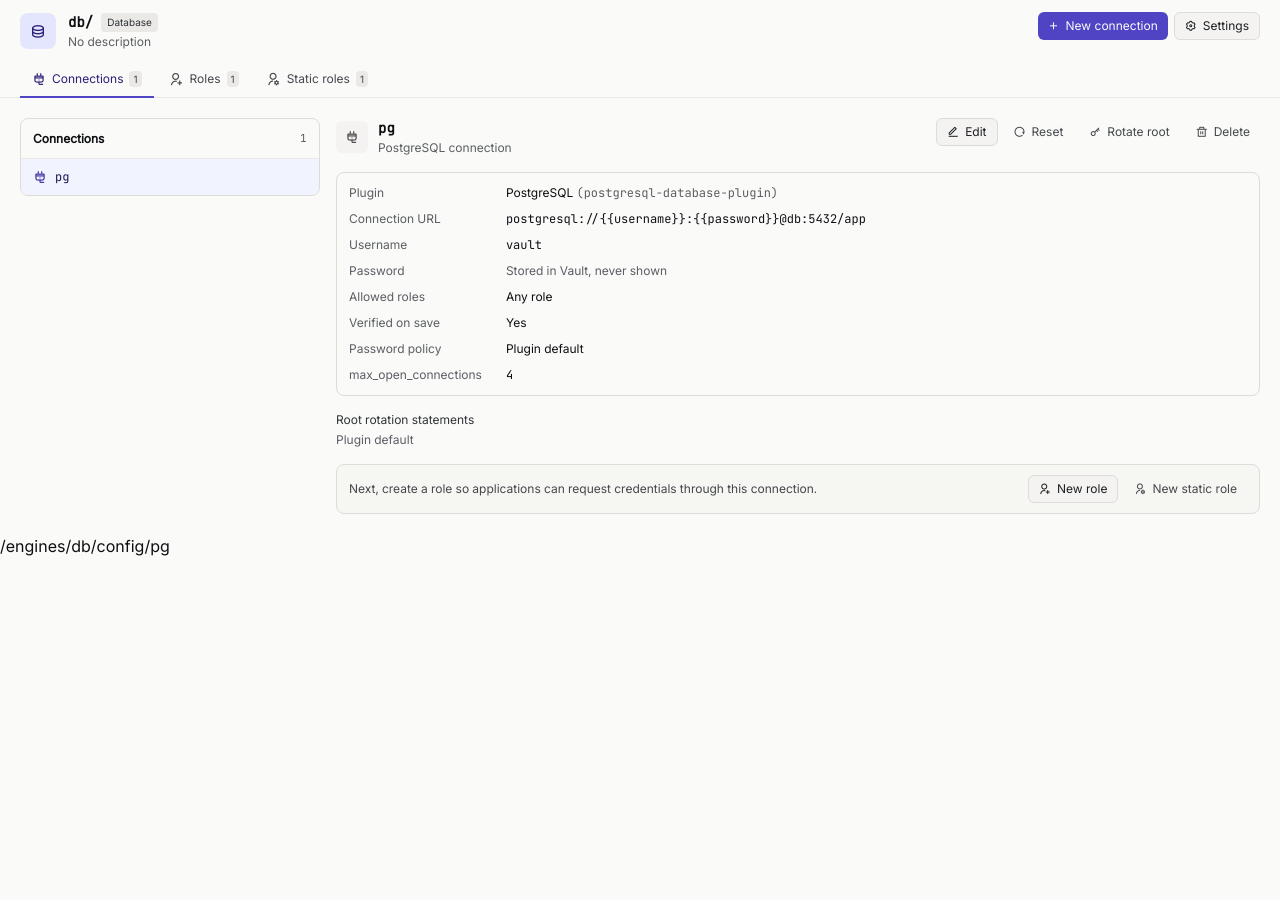
Scenario: DatabaseEnginePage connections › rotates root credentials and deletes only after typing the name
This screenshot has width=1280, height=900.
Expected: the text "Stored in Vault, never shown" is shown, x1=506 y1=263 x2=667 y2=278
Expected: the text "max_open_connections" is shown, x1=349 y1=367 x2=482 y2=383
Click the button "Rotate root" at x=1129, y=132, box x1=1079 y1=118 x2=1180 y2=146
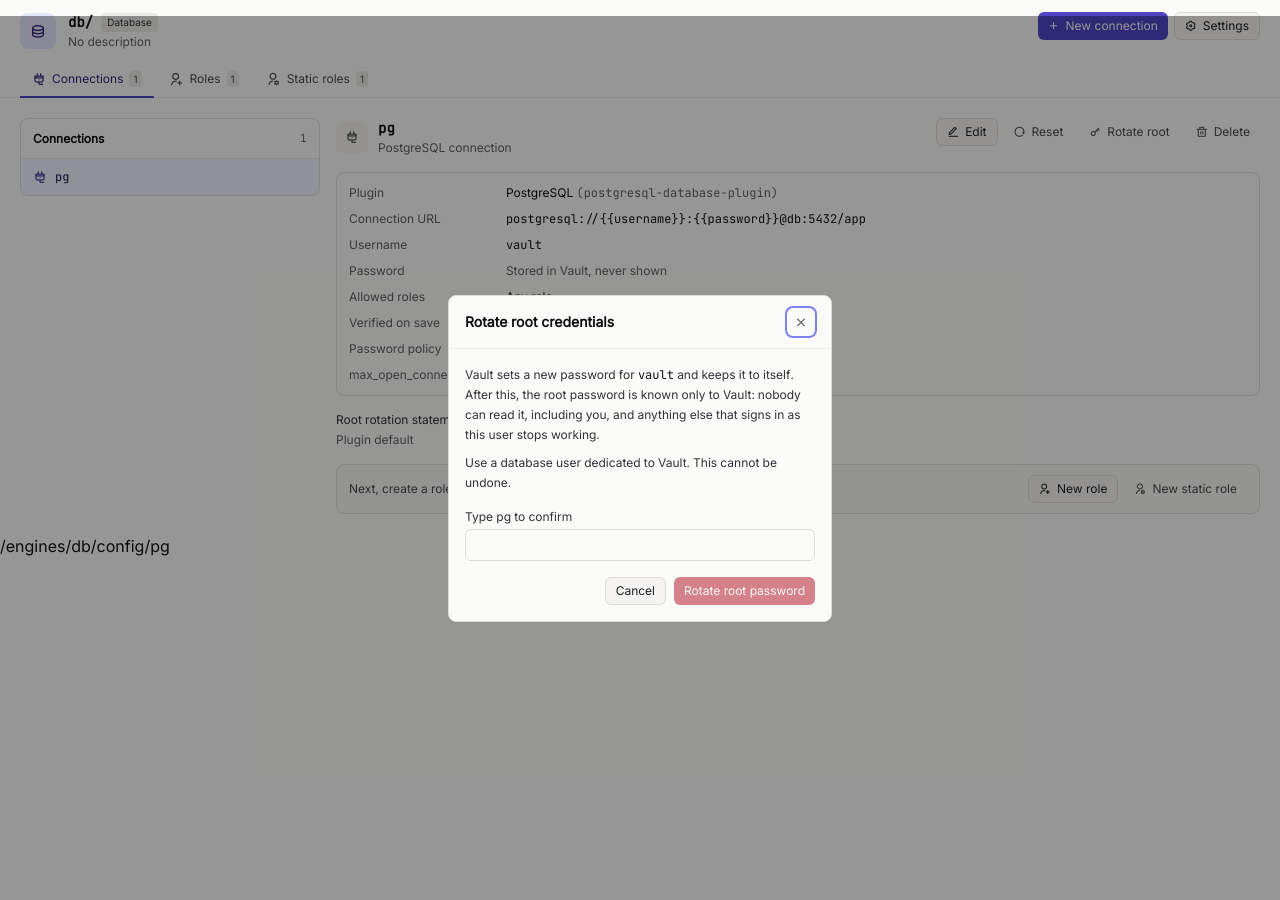
Result: the text "the root password is known only to Vault" is shown at x1=465 y1=366 x2=801 y2=442
Result: the button "Rotate root password" is disabled at x1=674 y1=576 x2=815 y2=604
Type "pg" into the field labelled "Type pg to confirm" at x=640, y=544, box x1=465 y1=528 x2=815 y2=560
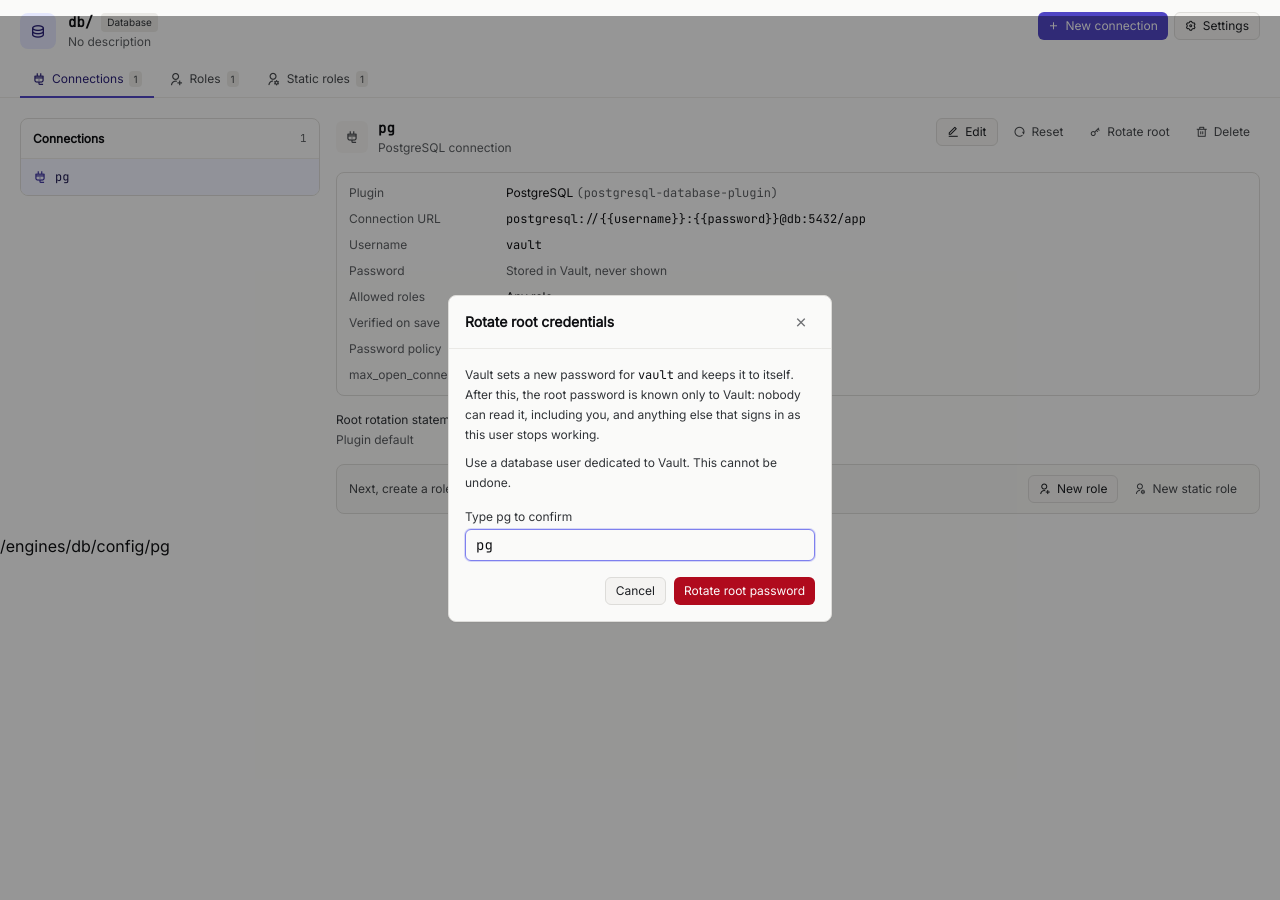
Click the button "Rotate root password" at x=744, y=590, box x1=674 y1=576 x2=815 y2=604
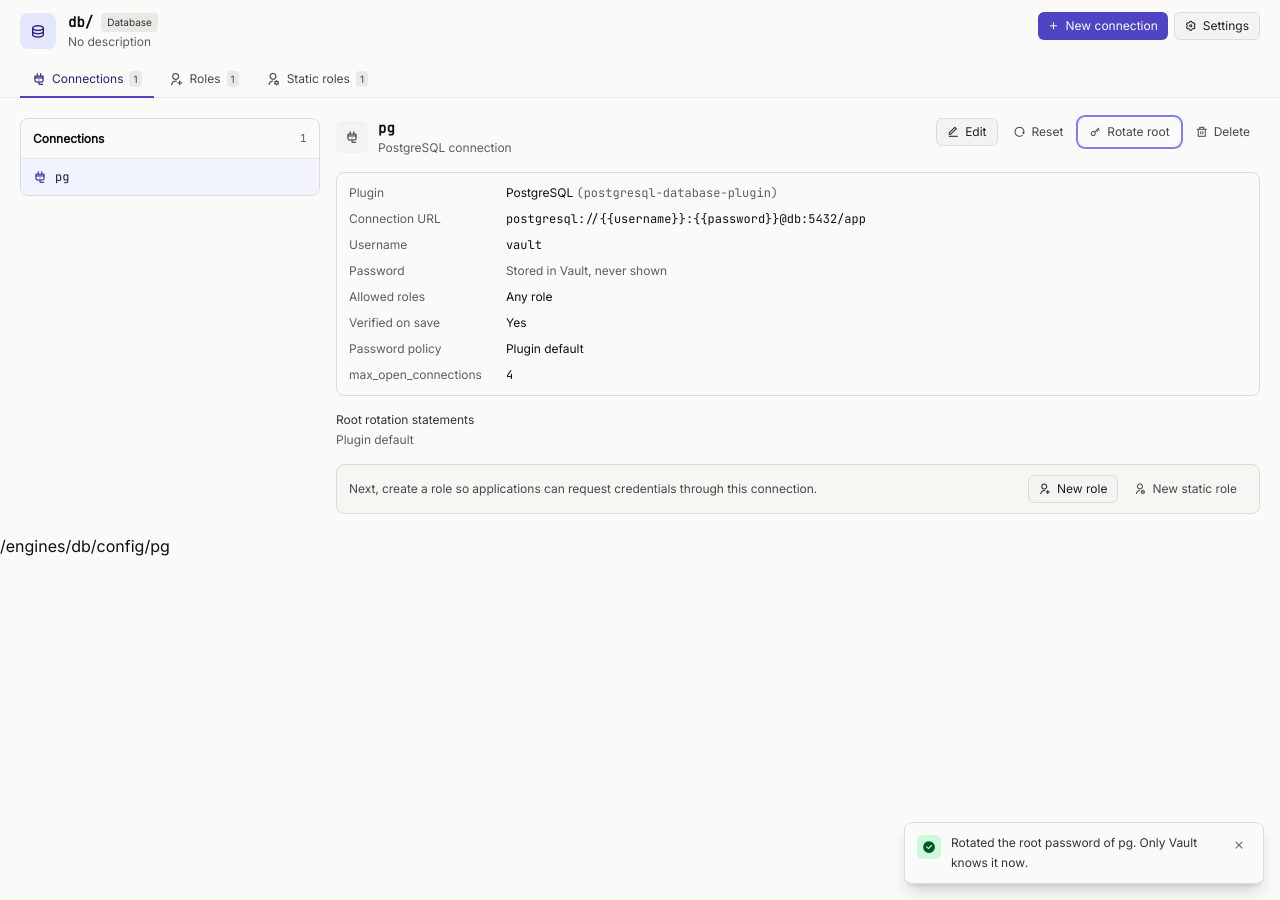
Click the button "Delete" at x=1223, y=132, box x1=1186 y1=118 x2=1260 y2=146
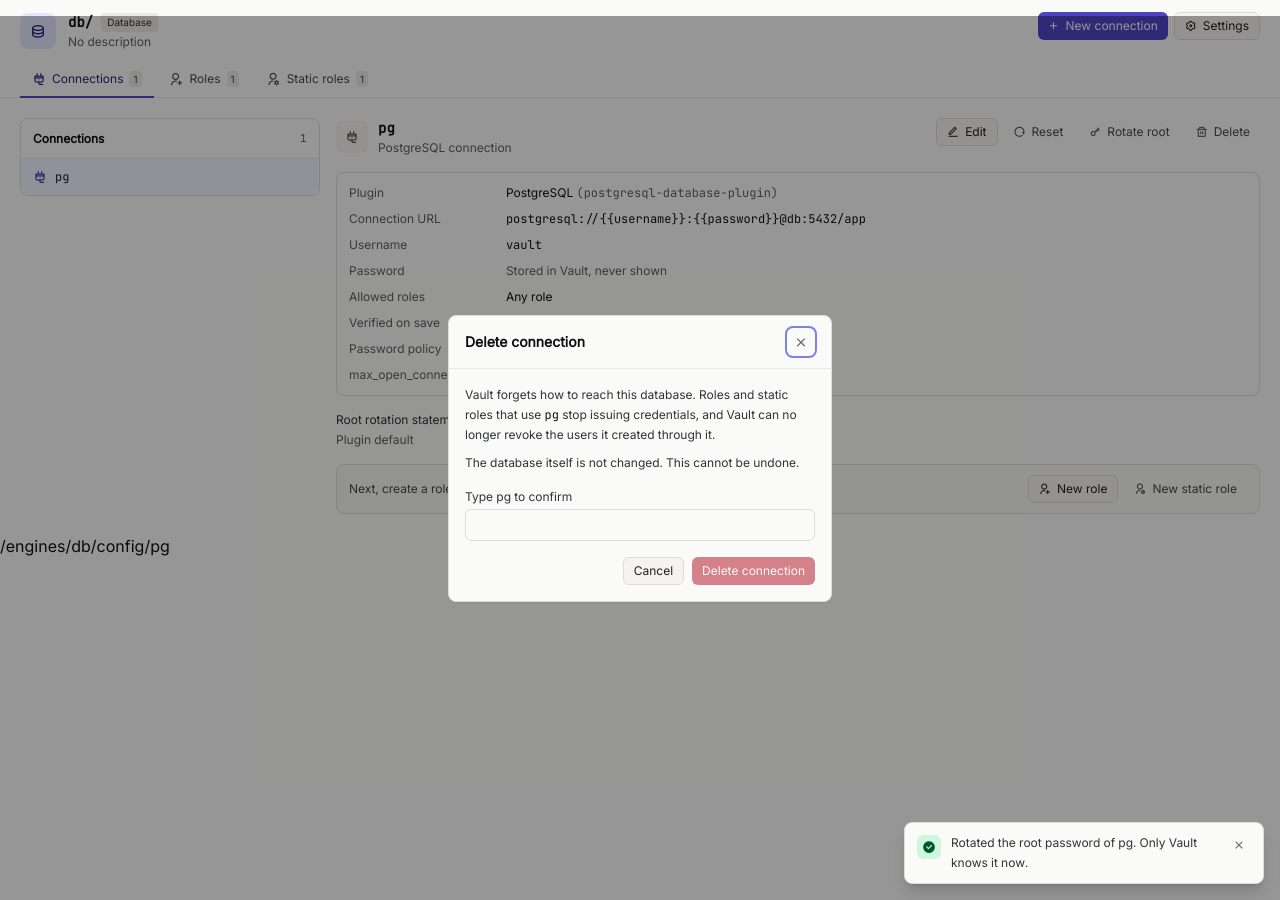
Type "pg" into the field labelled "Type pg to confirm" at x=640, y=524, box x1=465 y1=508 x2=815 y2=540
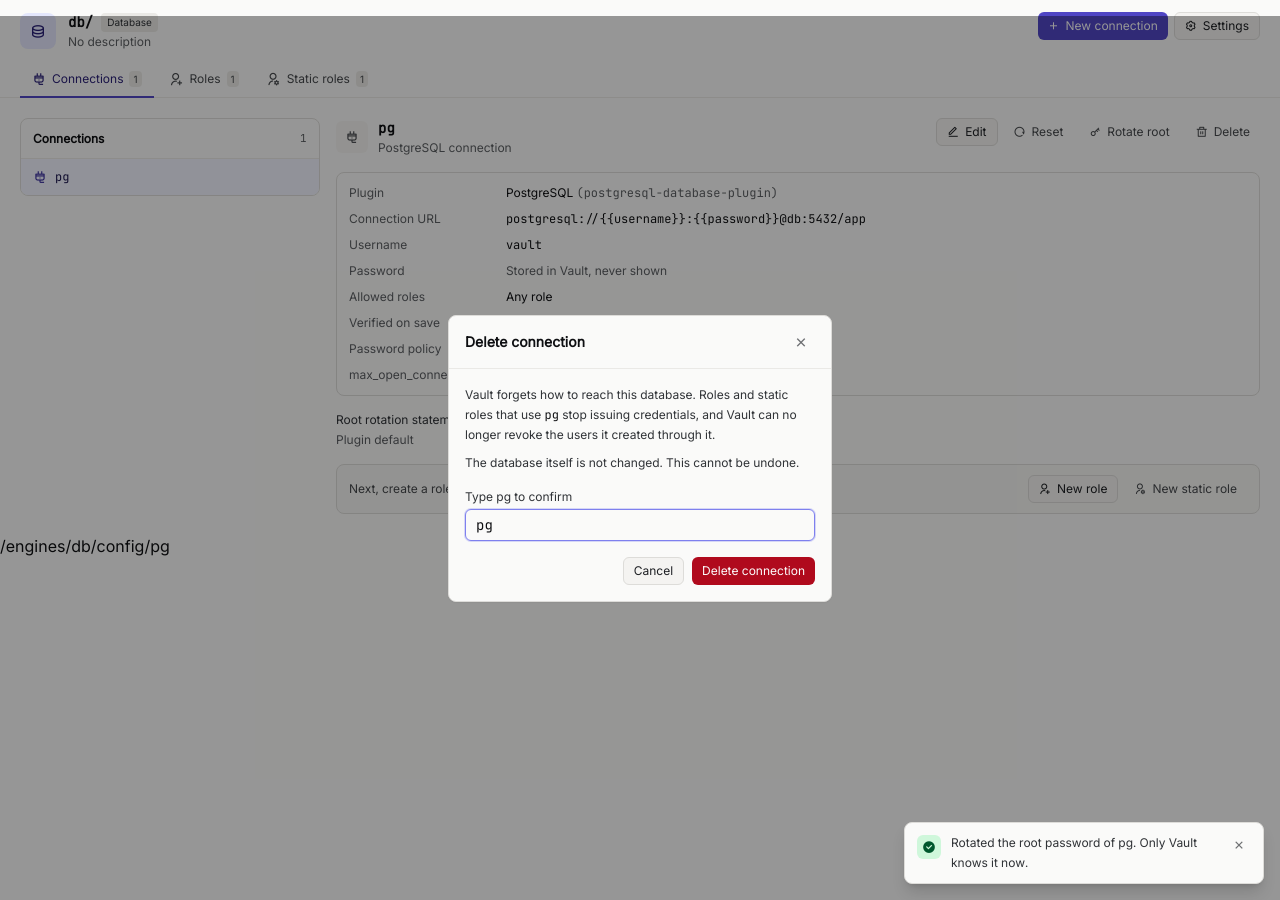
Click the button "Delete connection" at x=754, y=570, box x1=692 y1=556 x2=815 y2=584
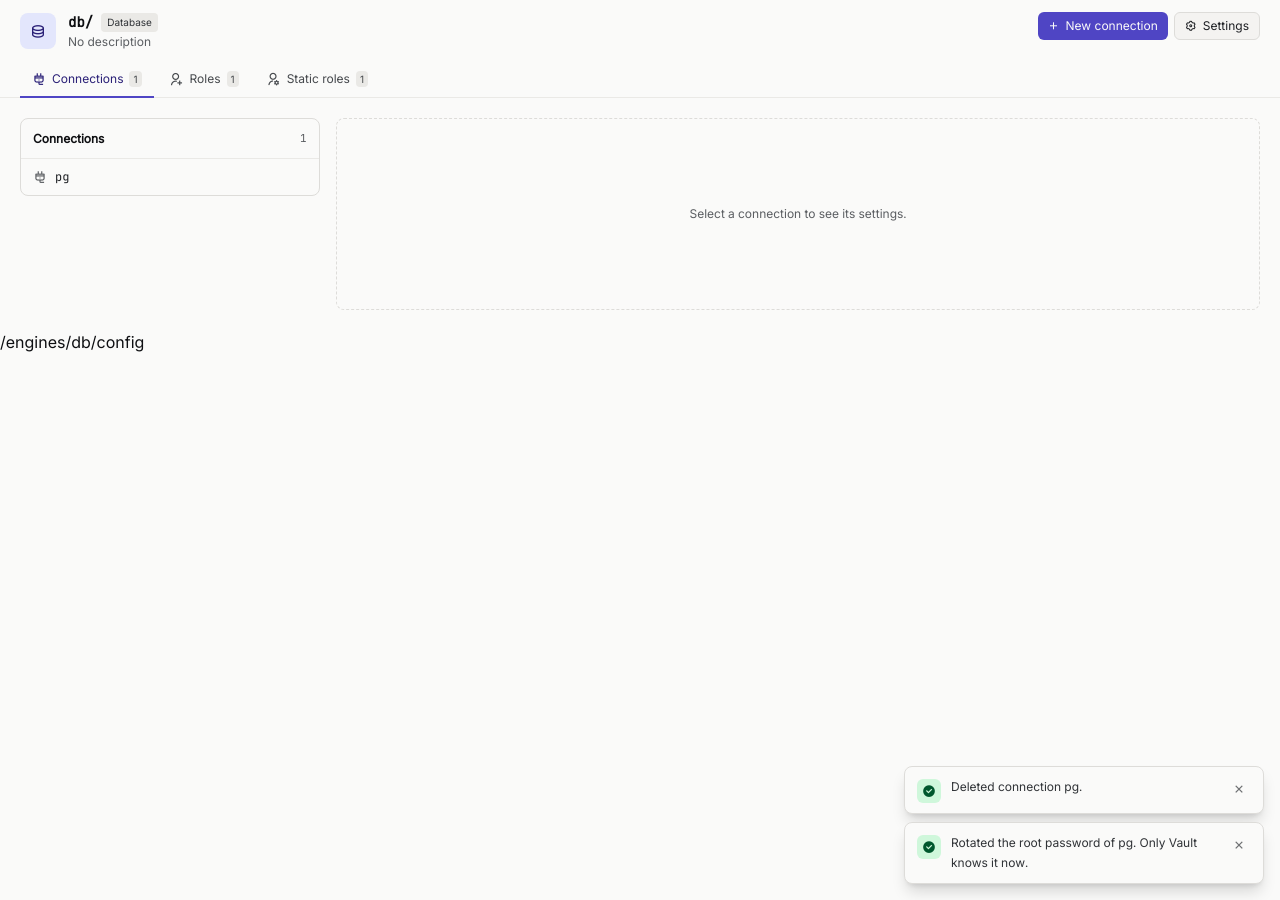
Result: the text named "Current location" reads "/engines/db/config" at x1=0 y1=332 x2=144 y2=352
